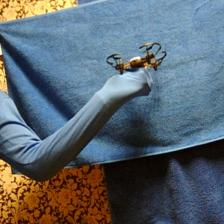drone: (104, 41, 166, 72)
